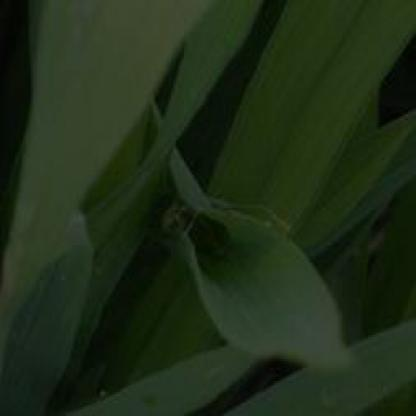leaf-folder: (157, 178, 246, 261)
